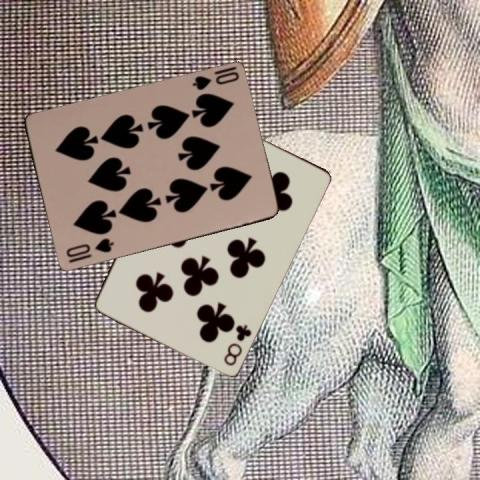10s: (189, 64, 240, 92), (63, 236, 114, 260)
8c: (220, 321, 253, 367)
